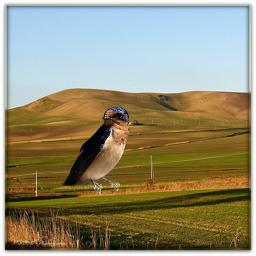Swallow: (61, 106, 129, 195)
